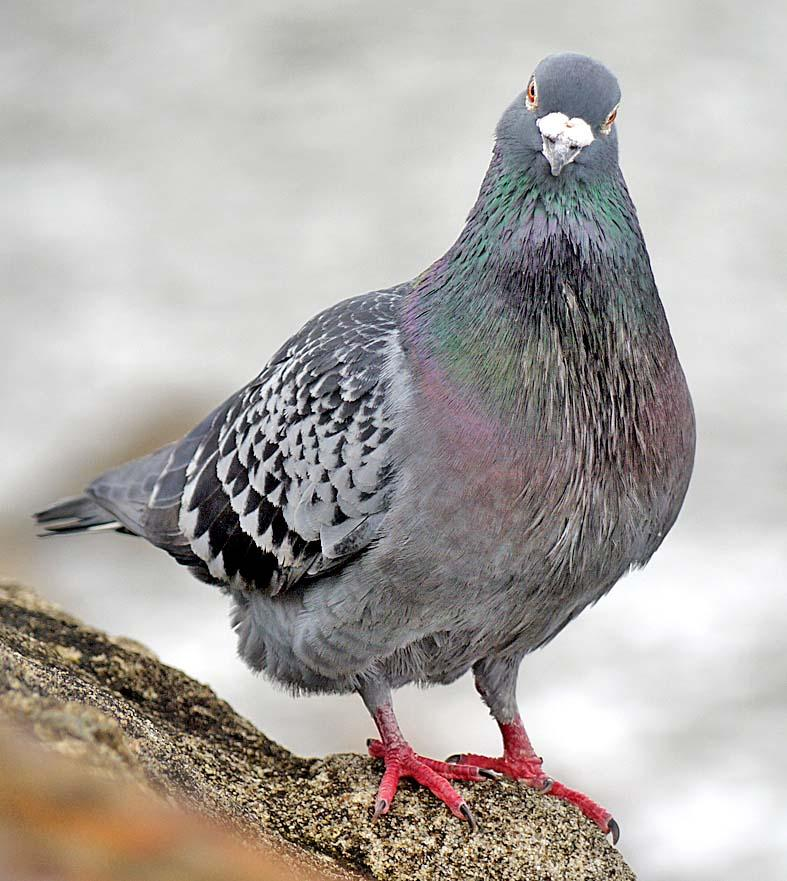Flying Rat: (65, 53, 674, 802)
